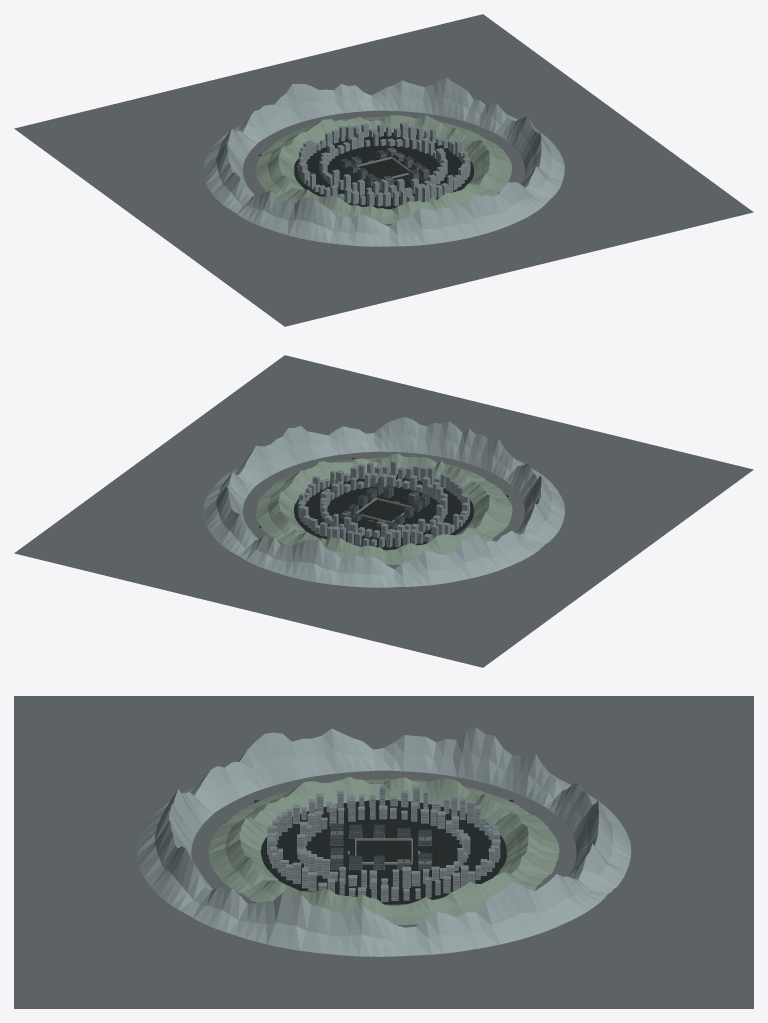
The model's file is defense_0_v2.glb.
3 views of the same model, one above another, from view 1: azimuth 30°, elevation 25°; view 2: azimuth 150°, elevation 25°; view 3: azimuth 270°, elevation 25° (orthographic). The views are drawn at different scales.
Parts seen in each view (by area): view 1: DISTANT_ground, DISTANT_far, DISTANT_near, DISTANT_wall, PLAZA_FLAT, DISTANT_window, DISTANT_roof, aged_concrete; view 2: DISTANT_ground, DISTANT_far, DISTANT_near, DISTANT_wall, PLAZA_FLAT, DISTANT_window, DISTANT_roof, aged_concrete, galvanized_steel; view 3: DISTANT_ground, DISTANT_far, DISTANT_near, PLAZA_FLAT, DISTANT_wall, DISTANT_window, DISTANT_roof, aged_concrete, galvanized_steel, smoked_glass.
Part boxes in pixels (x1=…): DISTANT_ground: x1=14, y1=14, x2=753, y2=326; DISTANT_far: x1=203, y1=78, x2=564, y2=246; DISTANT_near: x1=255, y1=115, x2=511, y2=224; DISTANT_wall: x1=297, y1=123, x2=470, y2=206; PLAZA_FLAT: x1=259, y1=117, x2=474, y2=208; DISTANT_window: x1=297, y1=125, x2=469, y2=205; DISTANT_roof: x1=297, y1=121, x2=470, y2=198; aged_concrete: x1=340, y1=148, x2=429, y2=190; DISTANT_ground: x1=14, y1=355, x2=753, y2=667; DISTANT_far: x1=203, y1=417, x2=564, y2=587; DISTANT_near: x1=255, y1=453, x2=512, y2=564; DISTANT_wall: x1=298, y1=462, x2=470, y2=547; PLAZA_FLAT: x1=259, y1=458, x2=508, y2=549; DISTANT_window: x1=299, y1=463, x2=469, y2=546; DISTANT_roof: x1=298, y1=460, x2=470, y2=541; aged_concrete: x1=340, y1=483, x2=429, y2=529; galvanized_steel: x1=340, y1=482, x2=429, y2=529; DISTANT_ground: x1=14, y1=696, x2=753, y2=1008; DISTANT_far: x1=136, y1=727, x2=631, y2=956; DISTANT_near: x1=208, y1=777, x2=559, y2=925; PLAZA_FLAT: x1=254, y1=800, x2=513, y2=904; DISTANT_wall: x1=267, y1=788, x2=500, y2=901; DISTANT_window: x1=268, y1=788, x2=499, y2=900; DISTANT_roof: x1=267, y1=785, x2=500, y2=891; aged_concrete: x1=330, y1=828, x2=431, y2=869; galvanized_steel: x1=330, y1=823, x2=431, y2=869; smoked_glass: x1=332, y1=824, x2=430, y2=868.
Bounding box in the file's own units: 1260 × 85.03 × 1260.
Materials: 15 (4 with a texture image).
